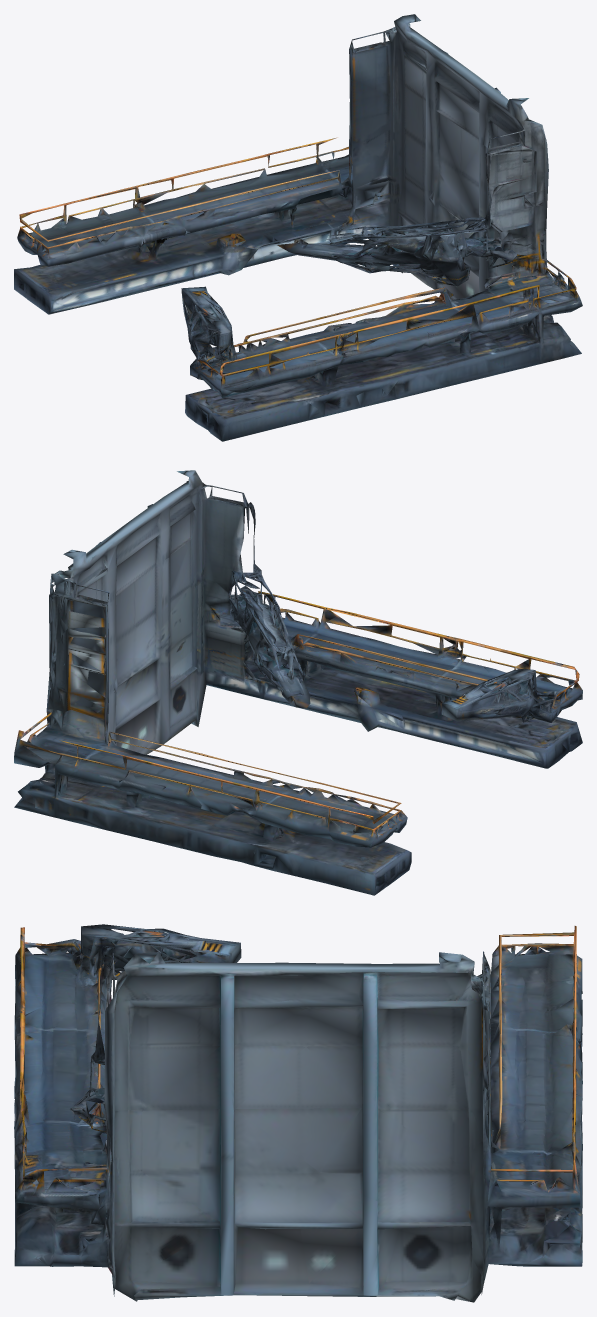
File: hangar-port.glb
3 renders of one model, top to bottom at view 1: azimuth 30°, elevation 25°; view 2: azimuth 150°, elevation 25°; view 3: azimuth 270°, elevation 25°, orthographic. The views are drawn at different scales.
Size of the model in its own units: 2 by 1.35 by 2.
Materials: 1 (1 with a texture image).
